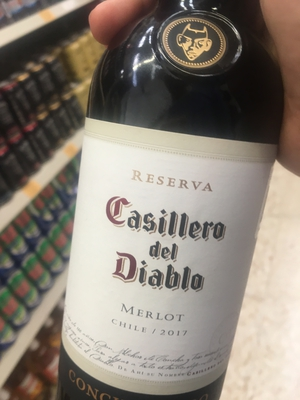casillero del diablo merlot: (60, 16, 279, 400)
